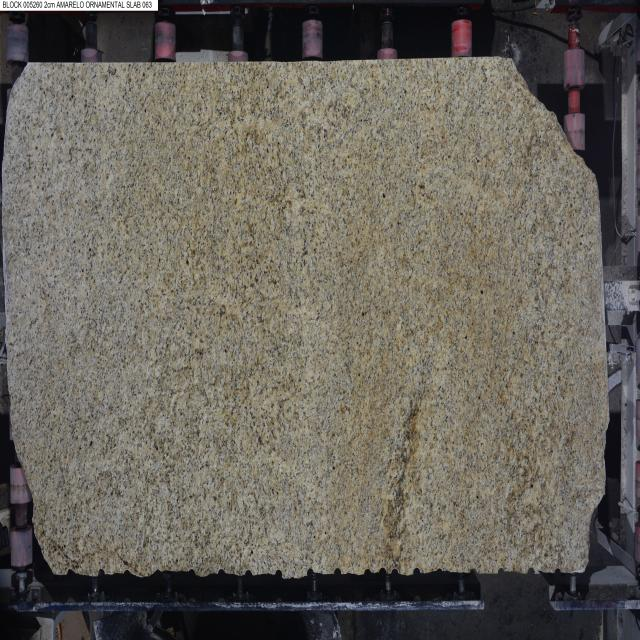chapa: (4, 58, 608, 578)
furo: (508, 47, 612, 193), (1, 431, 89, 576)
veio: (524, 566, 538, 578), (274, 568, 284, 581), (305, 567, 315, 578), (97, 568, 106, 580), (414, 566, 422, 578), (334, 568, 342, 578)
